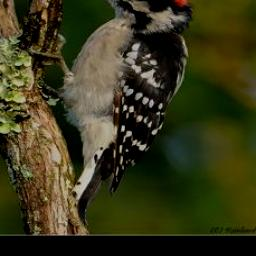Woodpecker: (34, 0, 198, 226)
